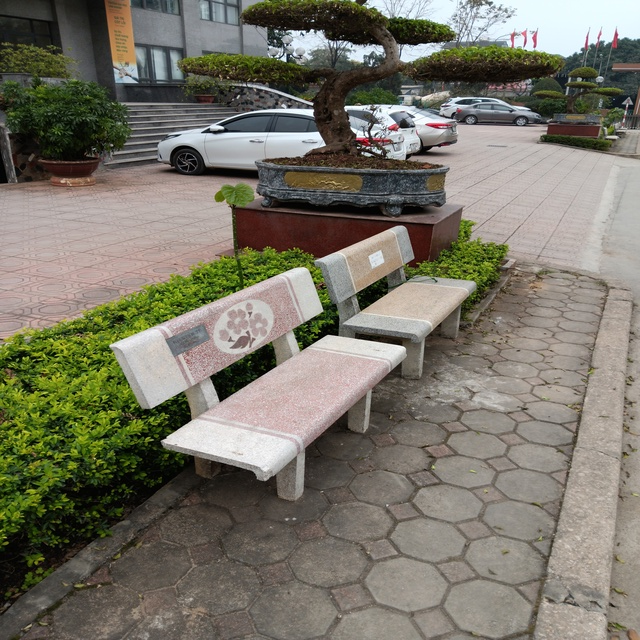gheda: (112, 266, 417, 501), (319, 225, 486, 386)
